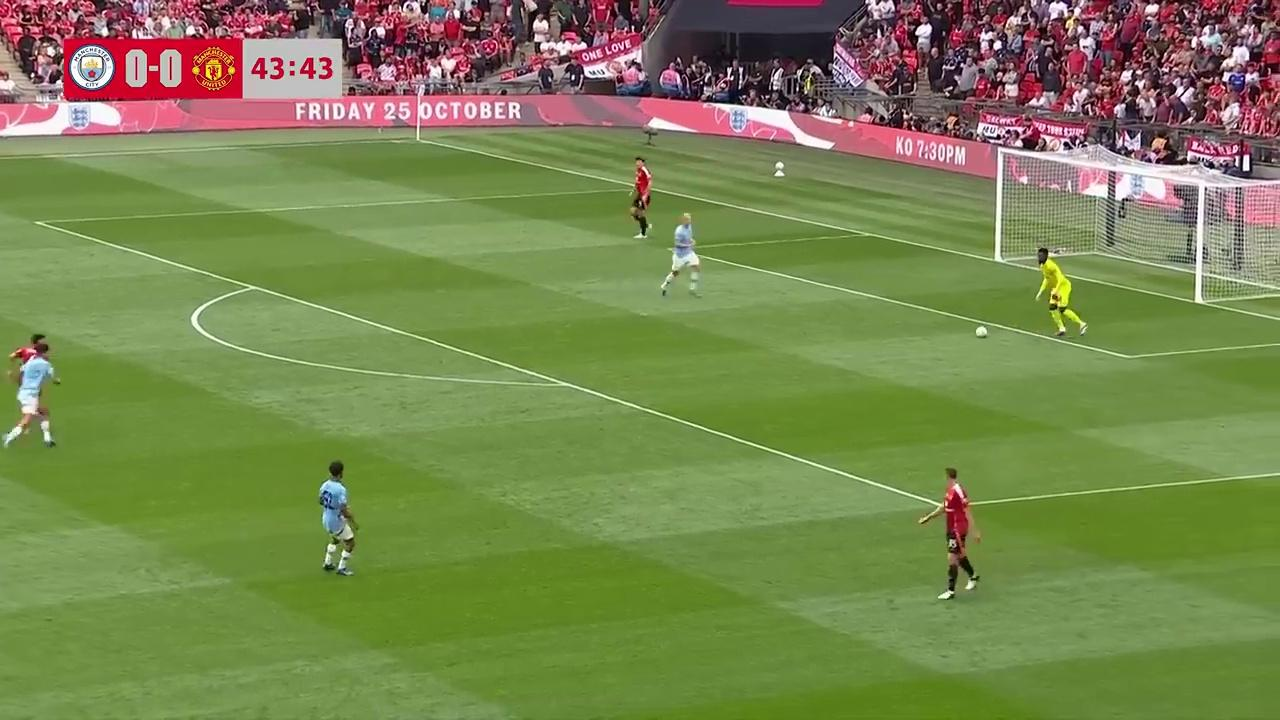ball: (973, 322, 991, 338)
player: (0, 335, 60, 449), (934, 467, 981, 599), (1033, 241, 1087, 341), (317, 461, 359, 575), (660, 212, 702, 298), (11, 333, 61, 401), (629, 152, 653, 237)
